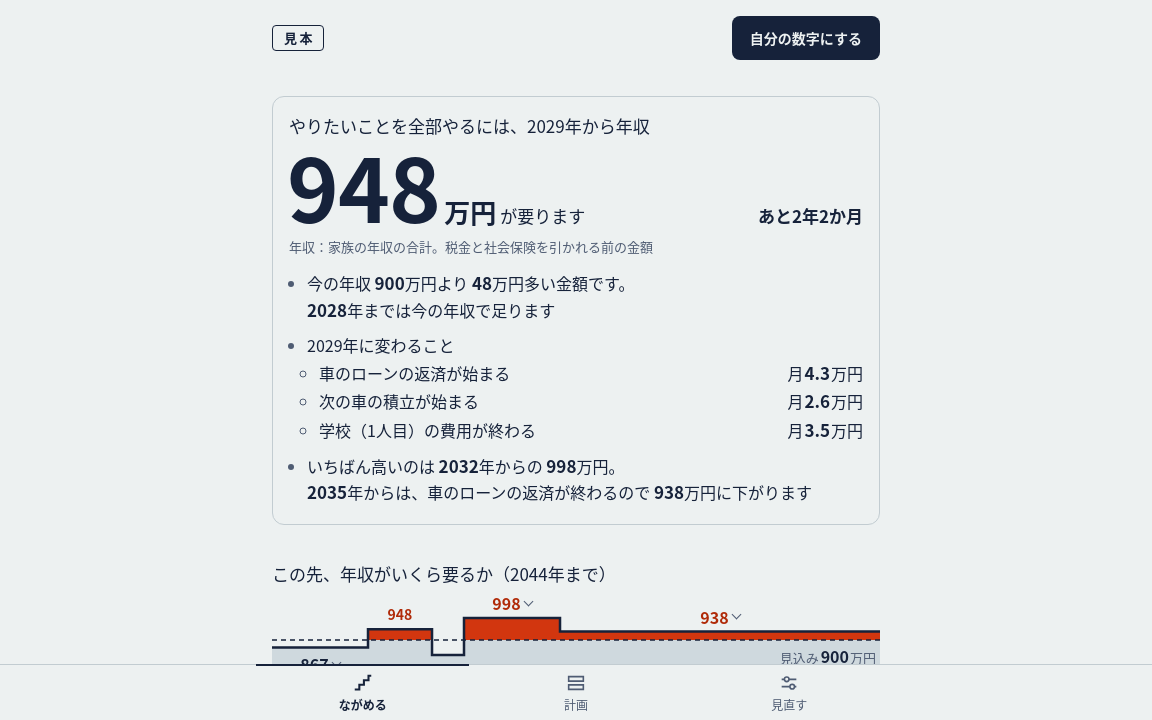
Scenario: AppRouter › タブで計画・見直すへ移れる
# 「計画」は 4 つの区分のページ。案内の無い見本では家族から開き、題（h1）は区分の題（T21）
Click the link "計画" at (576, 692), box [564,672,588,713]
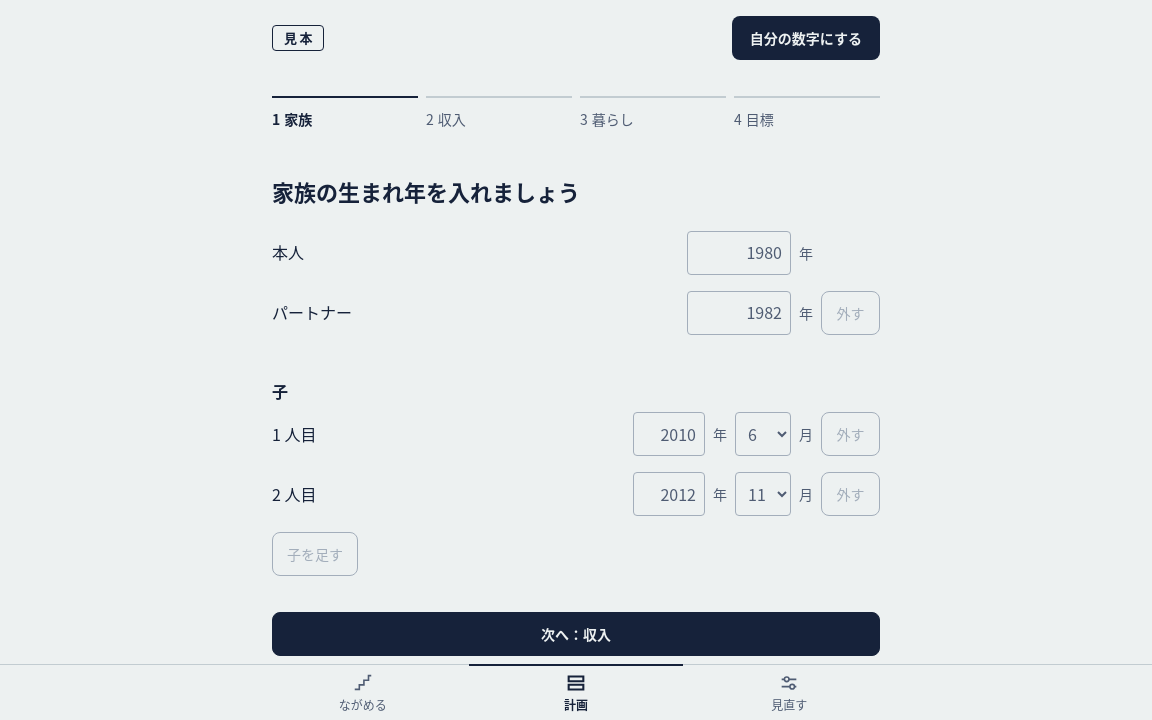
Check: the heading "家族の生まれ年を入れましょう" is shown, box [272,175,580,207]
Click the link "見直す" at (789, 692), box [771,672,807,713]
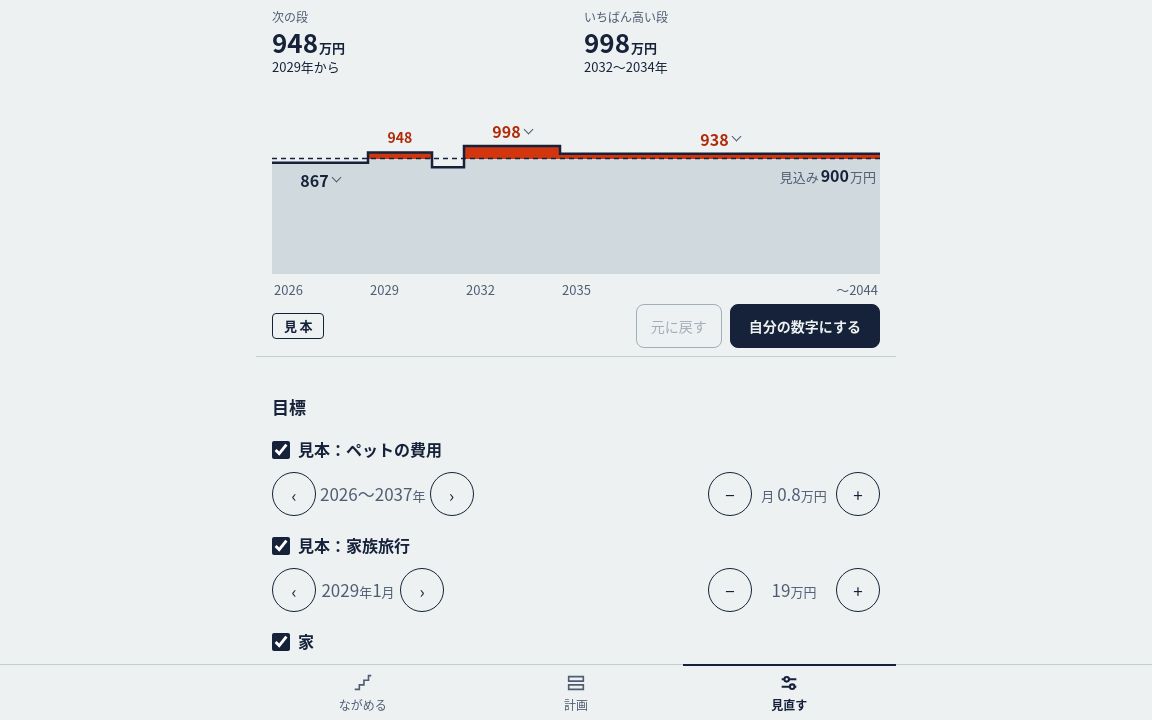
Click the link "ながめる" at (363, 692), box [339,672,387,713]
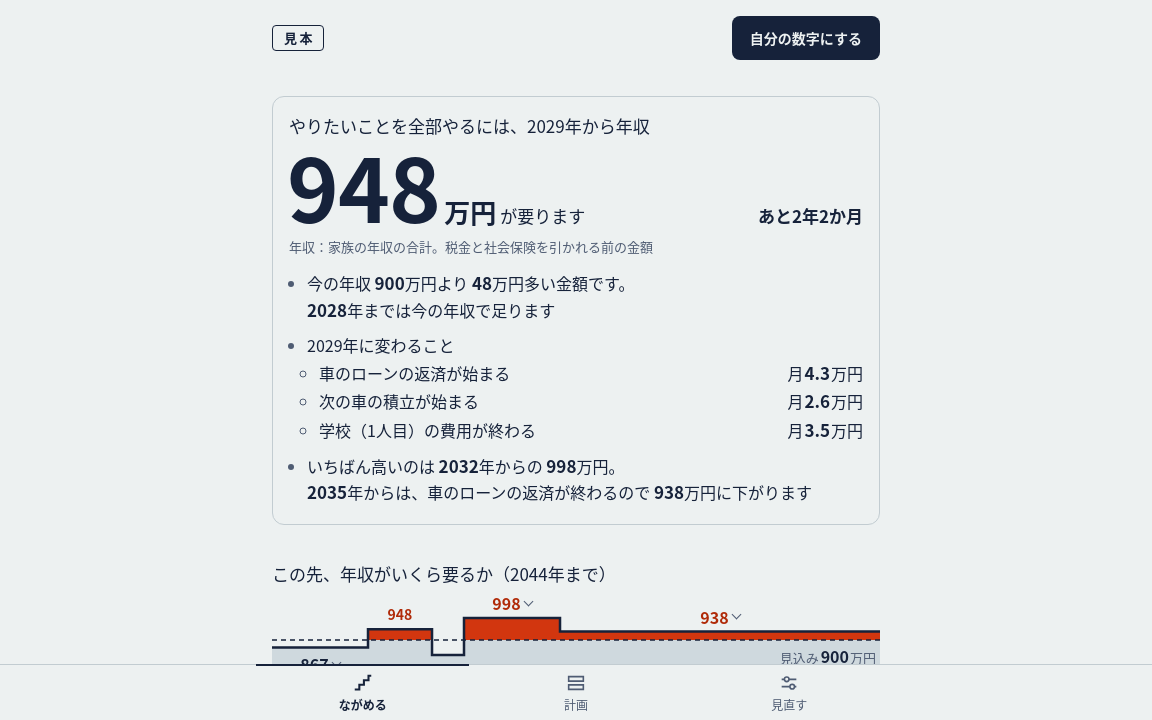
Check: the element named "概要" is shown, box [272,96,880,525]
